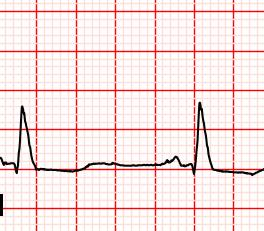Pathological Q Wave: (11, 162, 23, 177), (189, 161, 199, 178)
